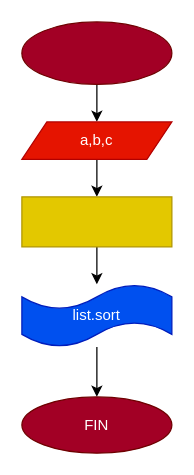
Image size: 194x475. Some labels were removed from this diagram. Here are the shapes that lost their labels. From the top down, the centre of each, then its label:
At [96,52]: "INICIO".
At [96,221]: "list = [a,b,c]".
